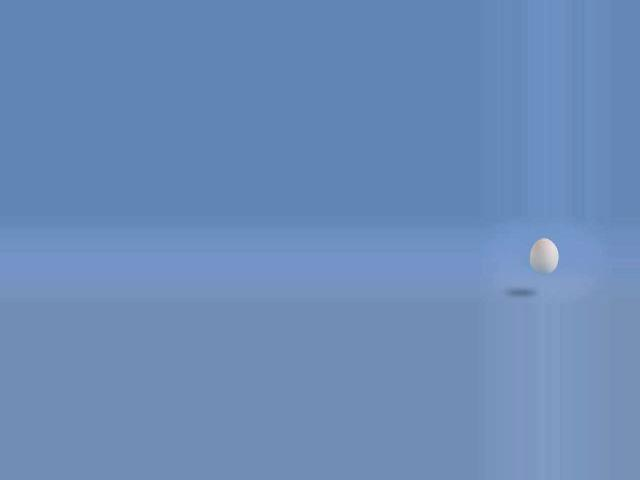egg: (529, 238, 559, 274)
